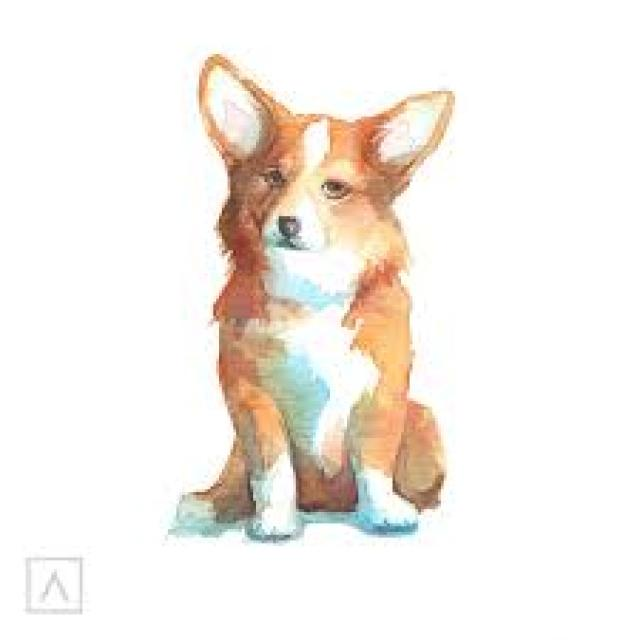CORGI: (163, 61, 459, 537)
